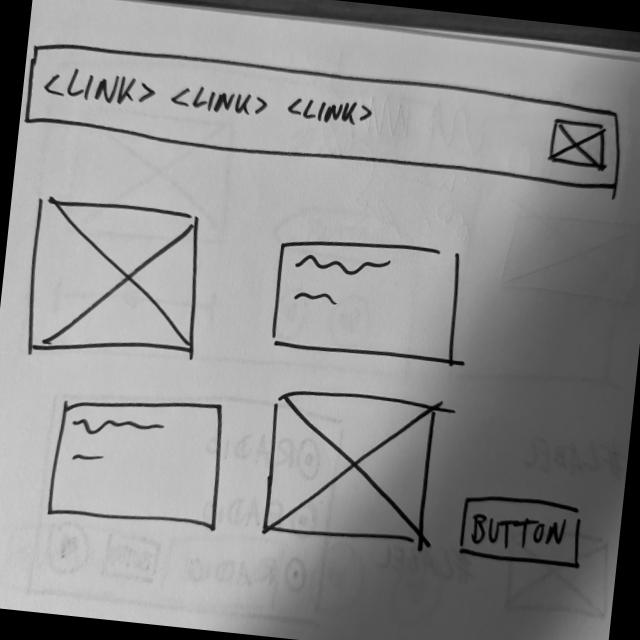button: (451, 485, 588, 574)
container: (18, 34, 631, 200)
image: (16, 190, 214, 373), (256, 383, 442, 556), (544, 111, 612, 173)
link: (39, 58, 160, 112), (168, 78, 272, 120), (283, 88, 376, 130)
textarea: (263, 224, 476, 374), (42, 384, 232, 536)
